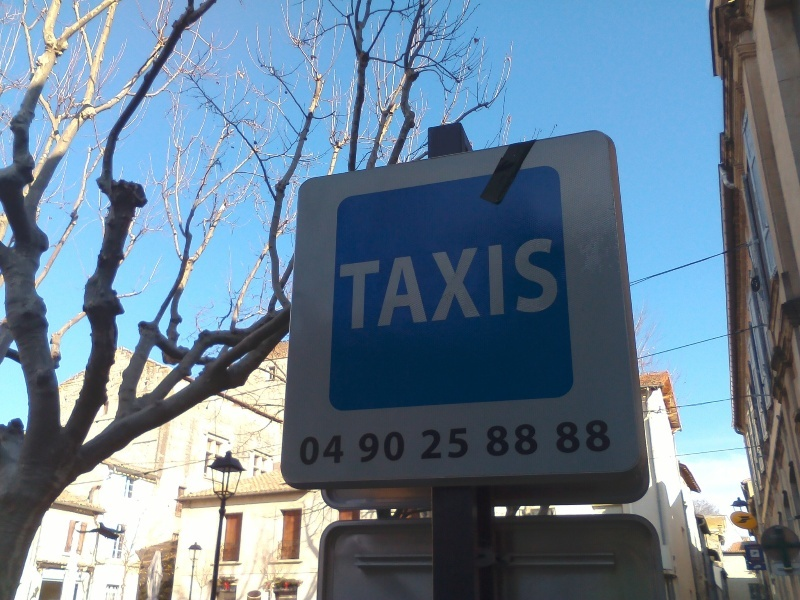text: (353, 234, 368, 332), (369, 234, 384, 332), (385, 234, 400, 332), (401, 234, 416, 332), (417, 234, 432, 332), (433, 234, 448, 332), (449, 234, 464, 332), (465, 234, 480, 332), (481, 234, 496, 332), (497, 234, 512, 332), (513, 234, 528, 332), (529, 234, 544, 332), (545, 234, 560, 332), (339, 234, 352, 332), (561, 419, 576, 456), (577, 419, 592, 456), (593, 419, 608, 456), (497, 424, 512, 459), (513, 424, 528, 459), (305, 435, 320, 468), (321, 435, 336, 468), (369, 431, 384, 464), (385, 431, 400, 464), (433, 428, 448, 461), (449, 428, 464, 461), (529, 424, 540, 459), (421, 428, 432, 461), (486, 424, 496, 459), (358, 431, 368, 464), (337, 435, 344, 468), (554, 419, 560, 456), (465, 428, 471, 461), (561, 234, 563, 332), (299, 435, 304, 468), (401, 431, 406, 464), (609, 419, 611, 456), (745, 545, 752, 549), (753, 545, 760, 549)
